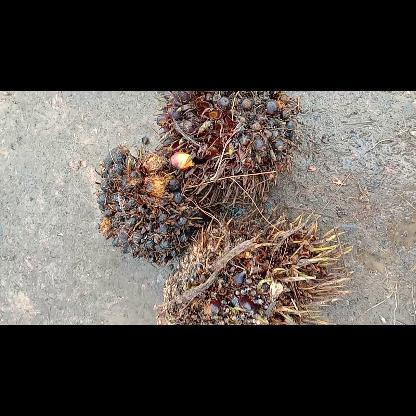TBS abnormal: (157, 206, 351, 324), (156, 90, 298, 206), (97, 146, 210, 264)
